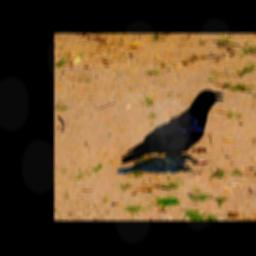Crow: (121, 89, 225, 172)
